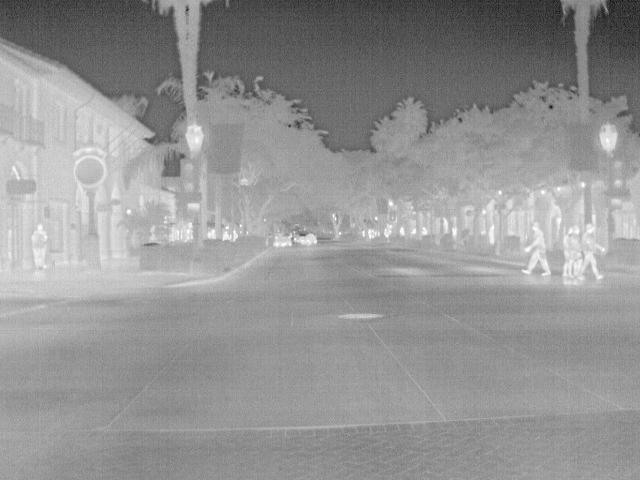car: (272, 227, 293, 247), (298, 228, 318, 246)
person: (521, 222, 552, 277), (580, 221, 607, 281), (31, 222, 49, 268), (561, 225, 575, 276), (571, 225, 584, 276)
